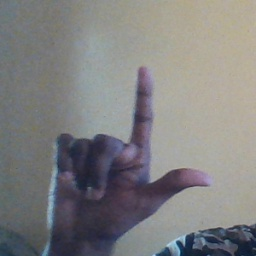L: (41, 65, 212, 234)
